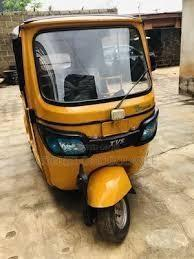keke: (12, 13, 165, 242)
